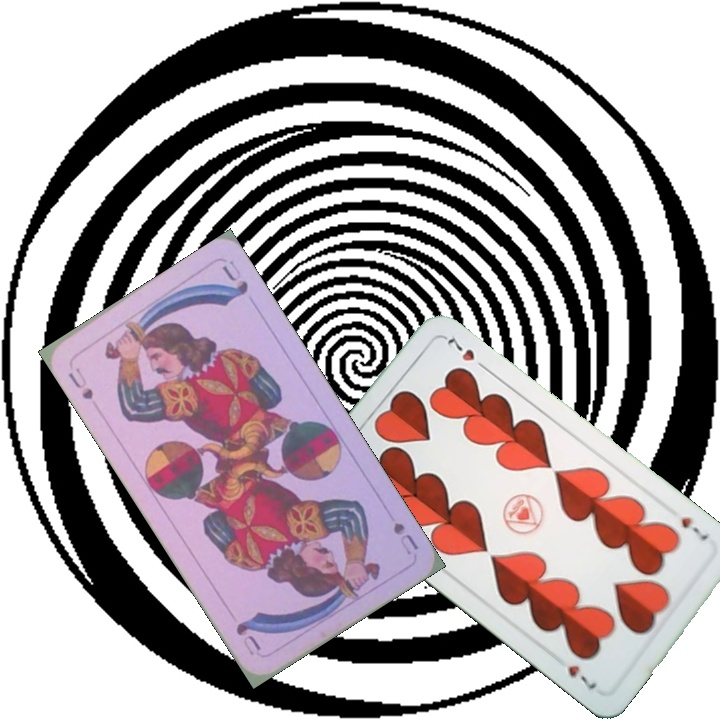H7: (677, 512, 711, 544)
SU: (389, 518, 421, 558), (64, 363, 96, 403)
